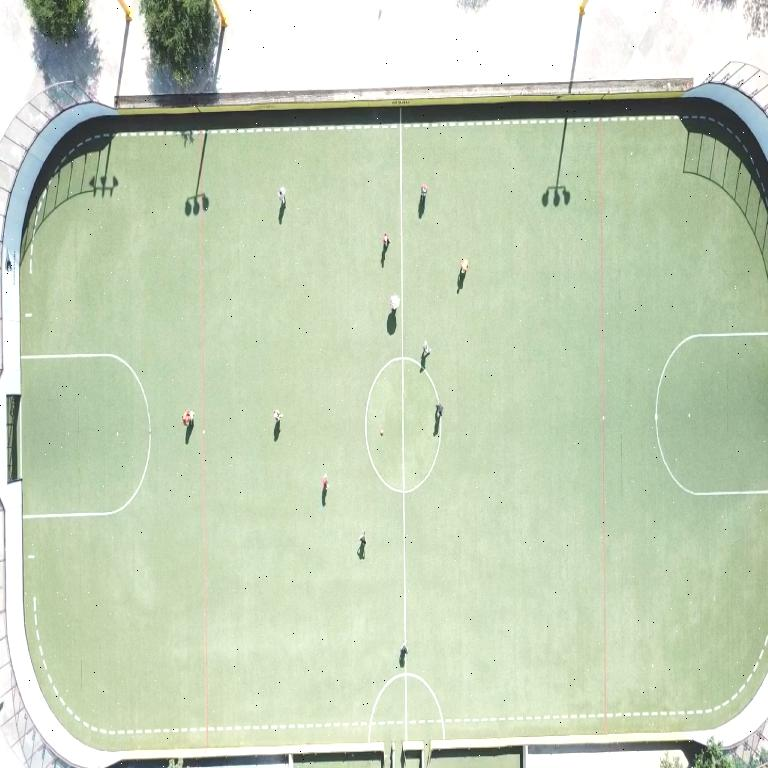AC: (21, 354, 150, 519), (654, 332, 767, 497)
B: (380, 430, 383, 434)
MC: (399, 108, 406, 645)
P: (182, 410, 193, 426), (388, 295, 398, 312), (277, 187, 285, 206), (421, 341, 429, 358), (382, 233, 389, 249), (435, 403, 442, 419), (460, 259, 467, 275), (358, 531, 365, 547), (273, 410, 281, 422), (420, 184, 426, 198), (322, 475, 327, 491), (400, 644, 407, 655)
